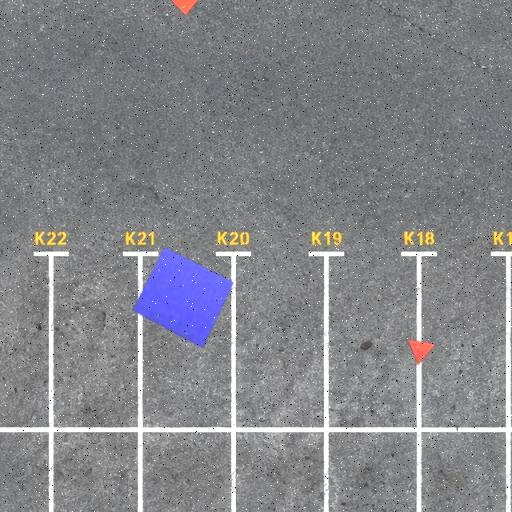BLUE_SQUARE: (132, 247, 234, 349)
RED_SQUARE: (158, 0, 212, 16)
